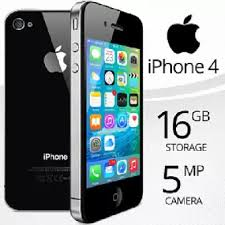iphone: (71, 1, 144, 224), (2, 10, 69, 211)
iphone4: (72, 1, 145, 224)
